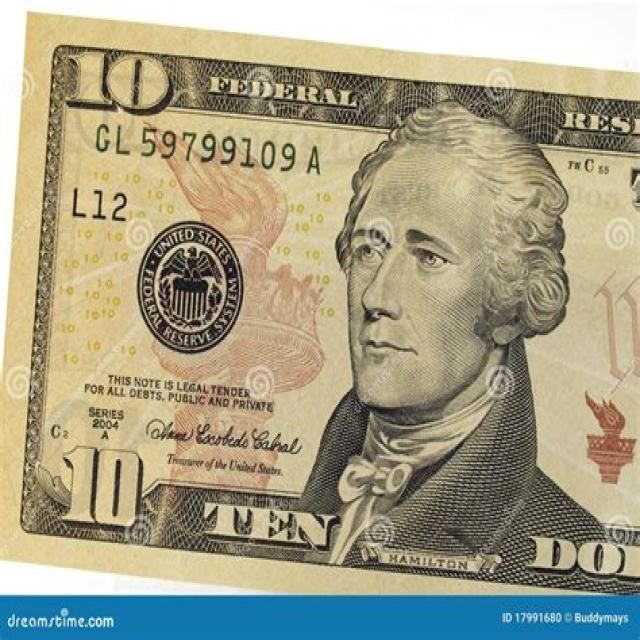Ten: (0, 12, 640, 595)
